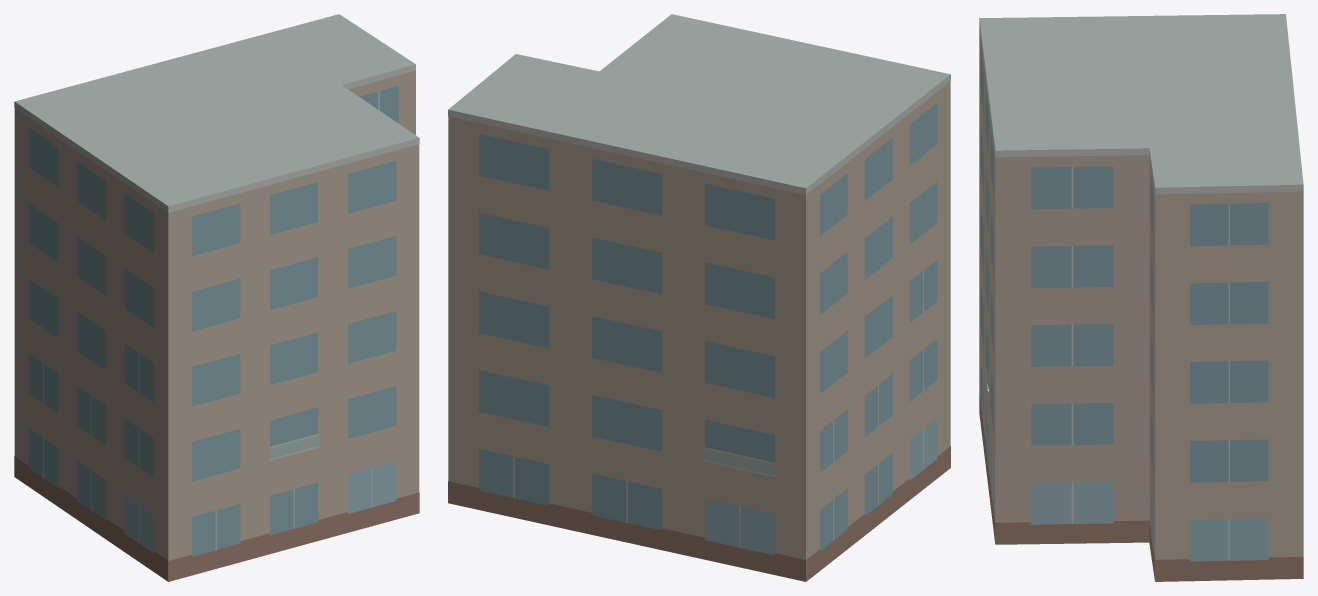
File: survey-upis-32894220.glb
3 renders of one model, left to right at view 1: azimuth 30°, elevation 25°; view 2: azimuth 150°, elevation 25°; view 3: azimuth 270°, elevation 25°, orthographic. The views are drawn at different scales.
Parts seen in each view (by area): view 1: survey-upis-32894220.tmp; view 2: survey-upis-32894220.tmp; view 3: survey-upis-32894220.tmp.
Boxes of the visible parts, bbox=[...] form: survey-upis-32894220.tmp: bbox=[14, 14, 419, 581]; survey-upis-32894220.tmp: bbox=[448, 14, 950, 581]; survey-upis-32894220.tmp: bbox=[979, 14, 1303, 581].
Bounding box in the file's own units: 13.53 × 14.3 × 10.67.
